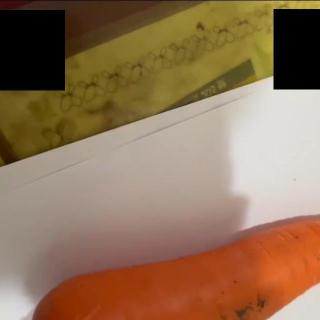carrot: (0, 218, 320, 320)
